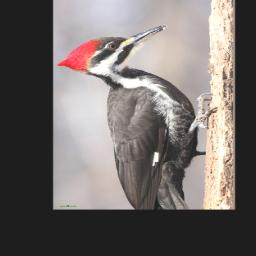Woodpecker: (57, 22, 213, 209)
